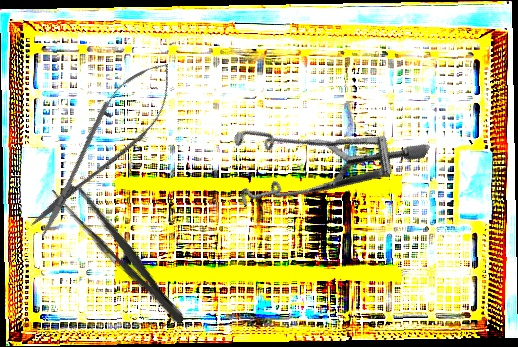Dressing Forceps: (47, 173, 195, 332)
Micro Scissor: (15, 47, 190, 248)
Speculum: (208, 61, 431, 271)
